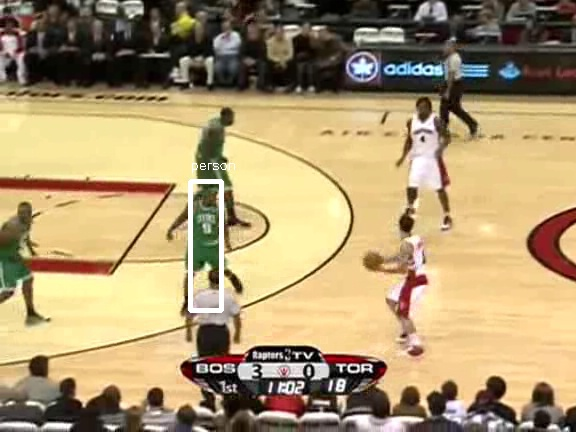person: (188, 198, 222, 279), (187, 198, 221, 279), (189, 198, 223, 279), (188, 197, 222, 278), (188, 199, 222, 280)
target_negative: (415, 76, 524, 425), (234, 274, 573, 353), (63, 254, 234, 393), (315, 303, 475, 358), (253, 425, 430, 427), (520, 355, 540, 356)
